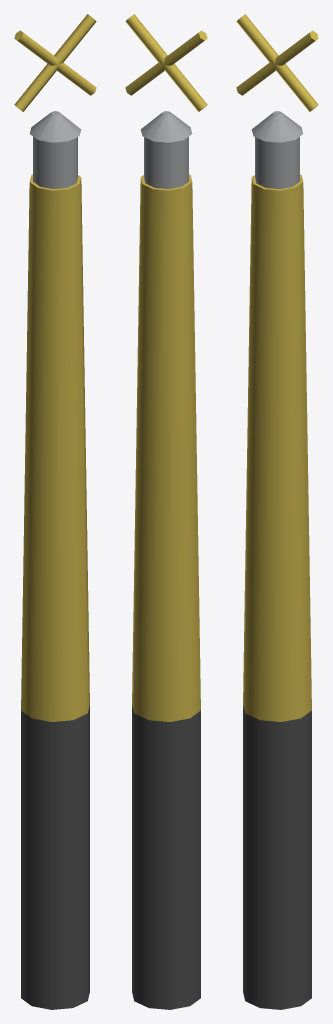
Rendered from buoy-spar-yellow.glb.
The picture shows the model from 3 angles, left to right: view 1: azimuth 30°, elevation 25°; view 2: azimuth 150°, elevation 25°; view 3: azimuth 330°, elevation 25°; orthographic projection.
Parts seen in each view (by area): view 1: buoy-spar-yellow; view 2: buoy-spar-yellow; view 3: buoy-spar-yellow.
Boxes of the visible parts, <box> form: buoy-spar-yellow: <box>14,14,96,1009</box>; buoy-spar-yellow: <box>125,14,207,1009</box>; buoy-spar-yellow: <box>236,14,318,1009</box>.
Size of the model in its own units: 0.5201 by 6.08 by 0.4.
